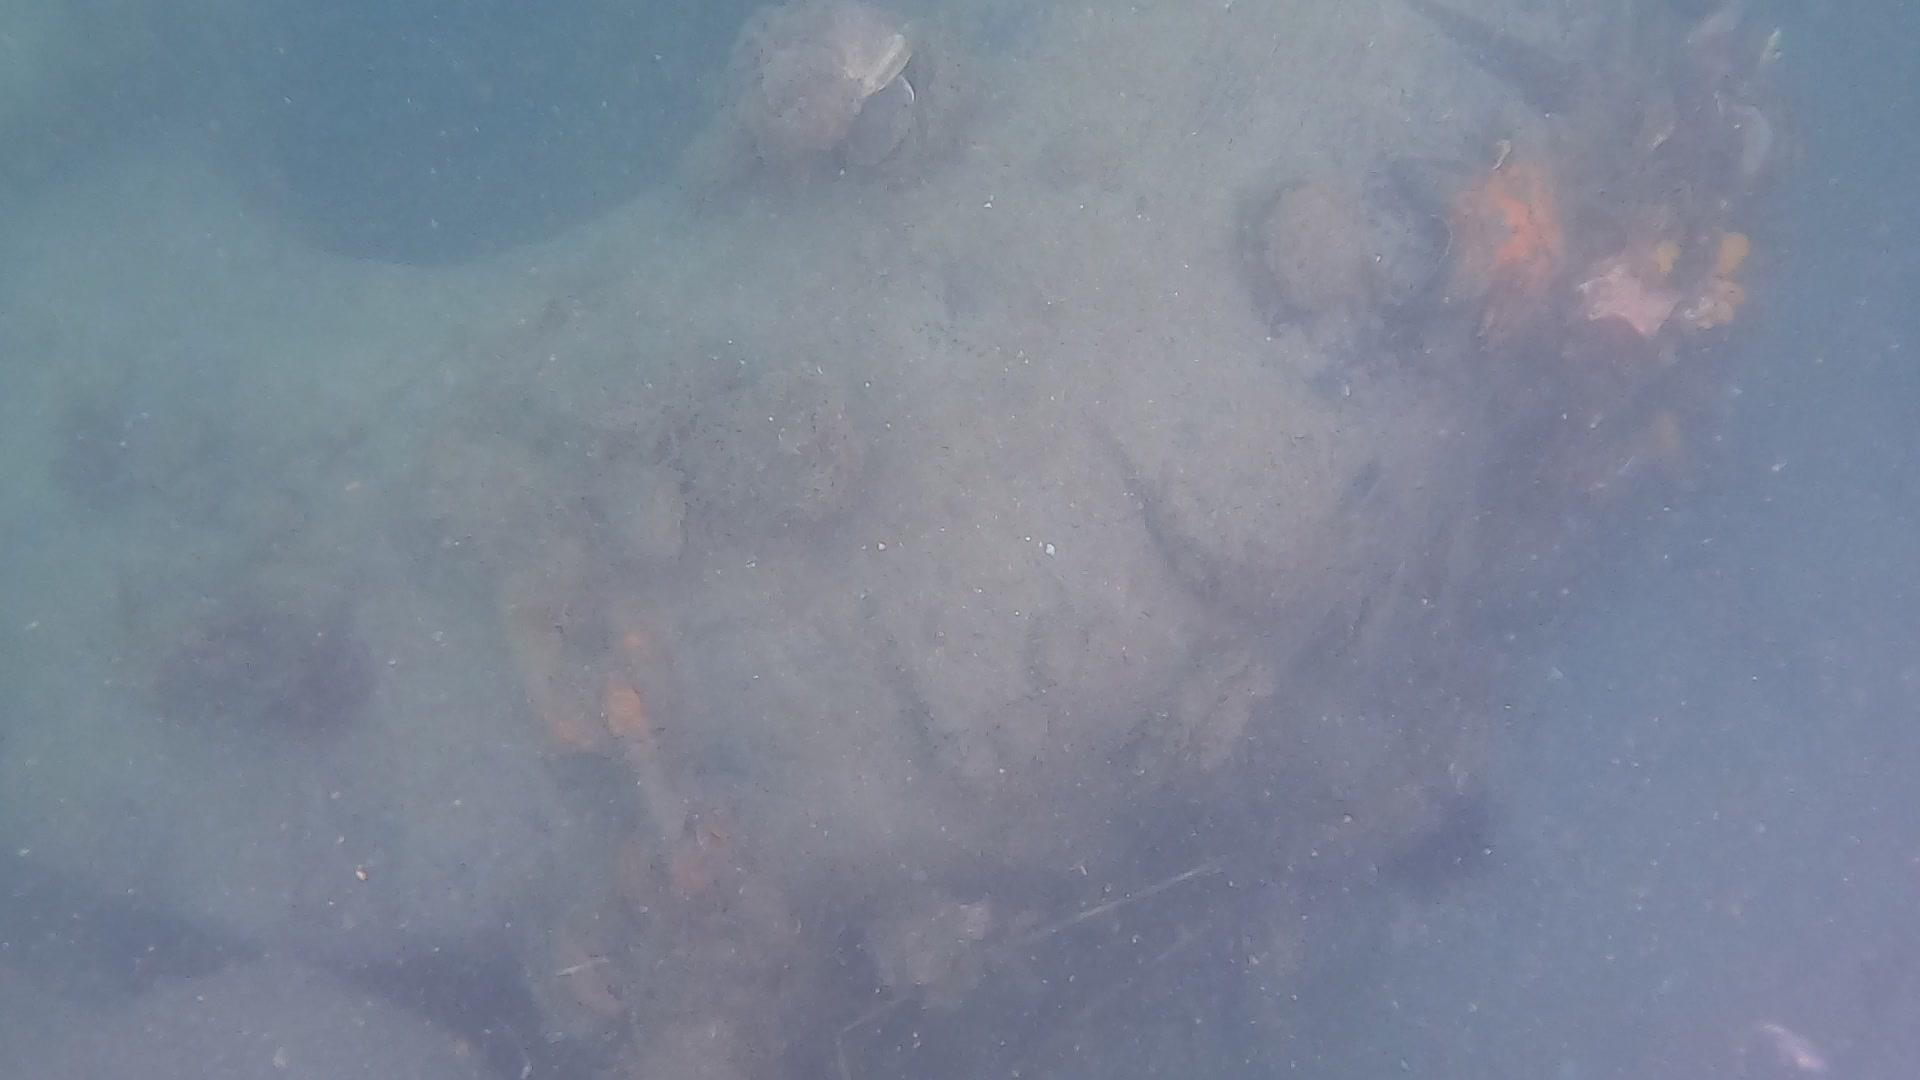tire: (0, 0, 1791, 1080)
